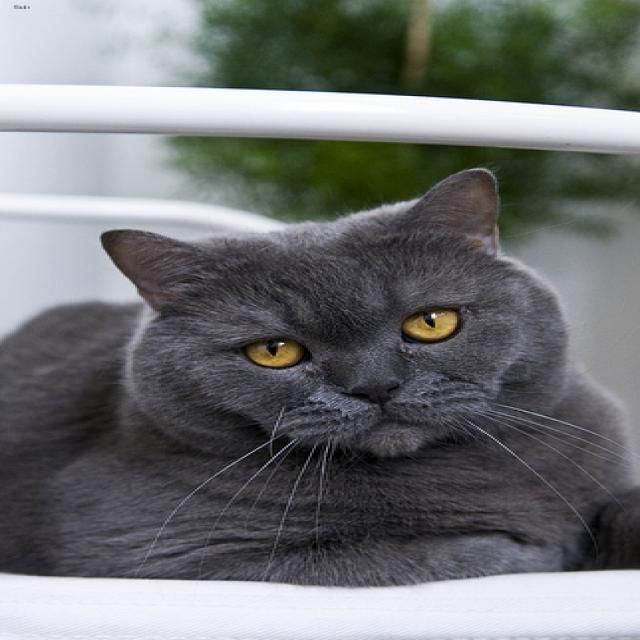British_Shorthair: (95, 165, 523, 453)
